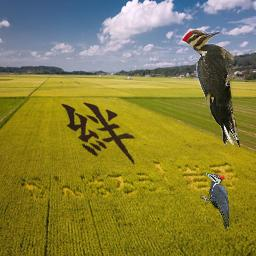Woodpecker: (181, 29, 241, 149), (200, 172, 232, 230)
